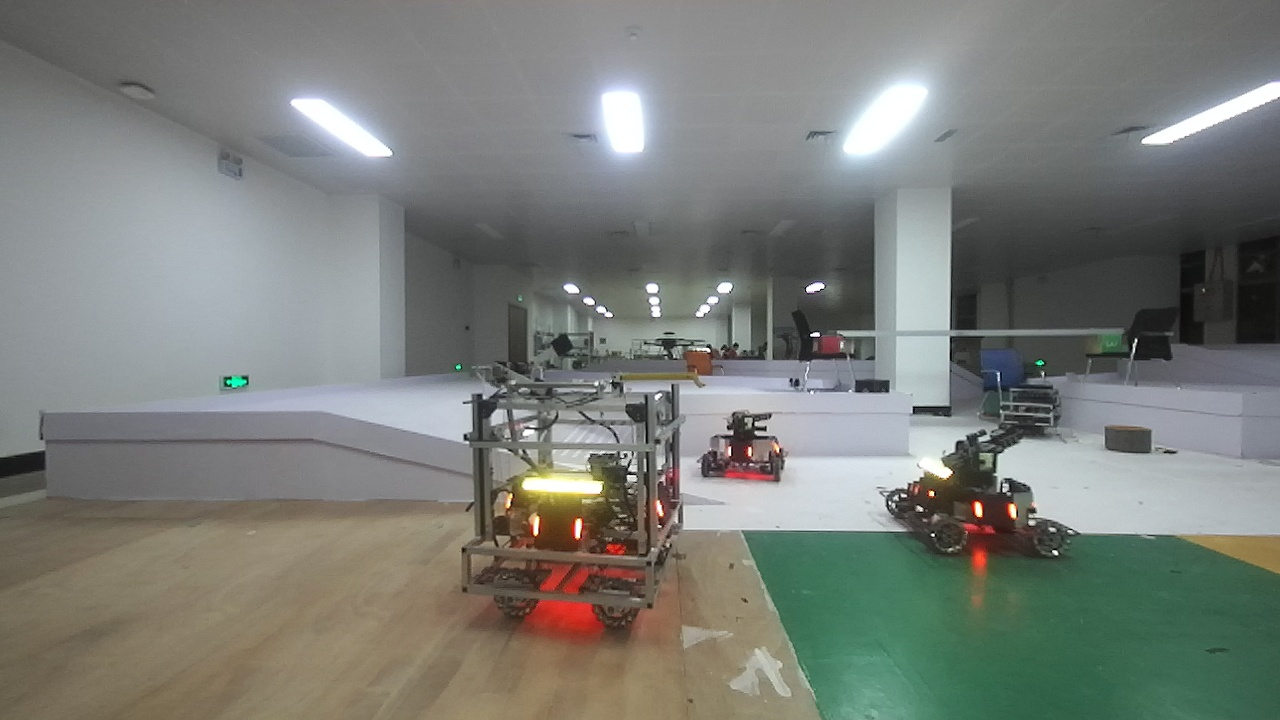car: (462, 368, 681, 634), (875, 415, 1074, 564), (704, 403, 793, 491)
